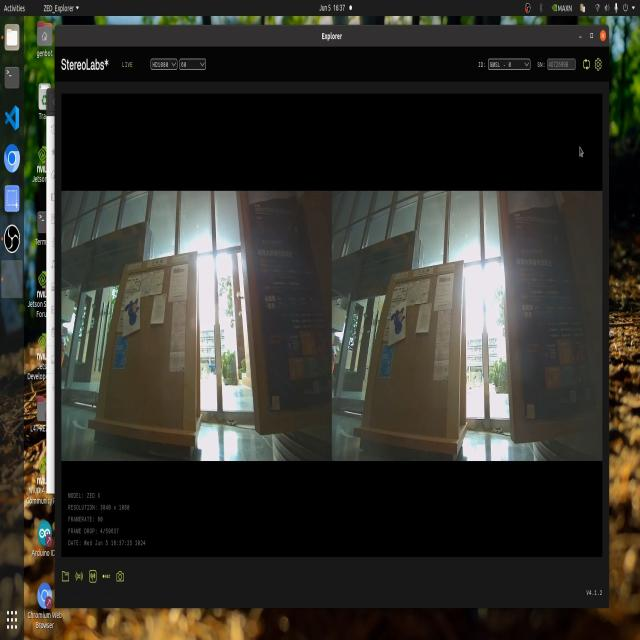blue: (386, 300, 409, 340), (122, 298, 140, 331)
